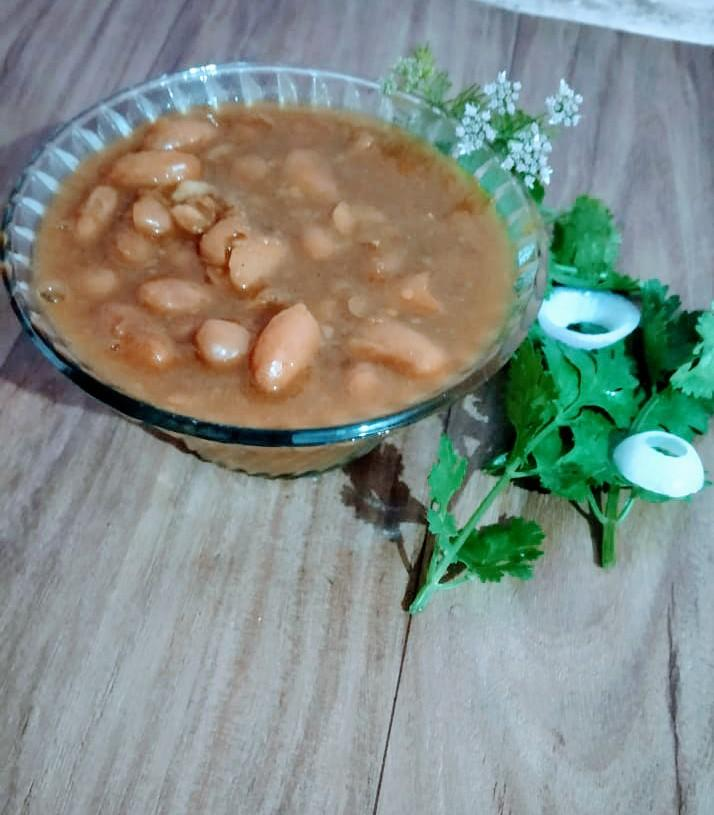RajmaCurry: (39, 80, 516, 426)
